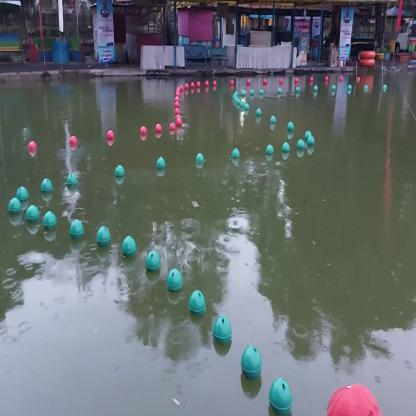green_buoy: (266, 376, 295, 414), (239, 344, 263, 378), (210, 315, 233, 345), (188, 281, 206, 316), (94, 222, 112, 249), (168, 267, 184, 294), (145, 248, 162, 272), (42, 209, 58, 232), (64, 170, 80, 192), (25, 201, 40, 224), (69, 216, 84, 239), (8, 195, 22, 216), (122, 235, 135, 256), (39, 177, 53, 195), (14, 184, 28, 202), (113, 162, 125, 179), (155, 154, 166, 172), (195, 148, 205, 166), (305, 136, 317, 147), (295, 137, 305, 150), (281, 140, 290, 154), (303, 128, 313, 140), (232, 146, 240, 160), (286, 121, 296, 132), (266, 143, 274, 156), (269, 114, 278, 124)
red_buoy: (28, 139, 37, 156), (68, 135, 79, 147), (106, 128, 116, 141), (174, 117, 184, 128), (140, 124, 148, 137), (167, 121, 176, 131), (155, 123, 162, 134)
